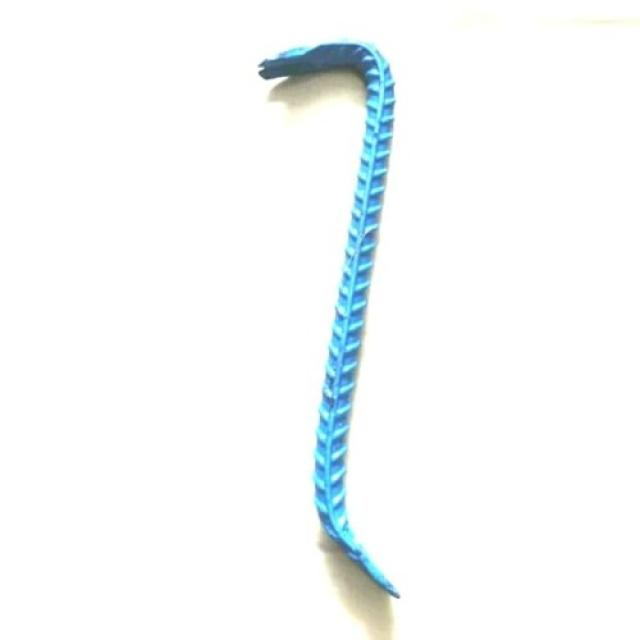Linggis: (261, 38, 402, 600)
